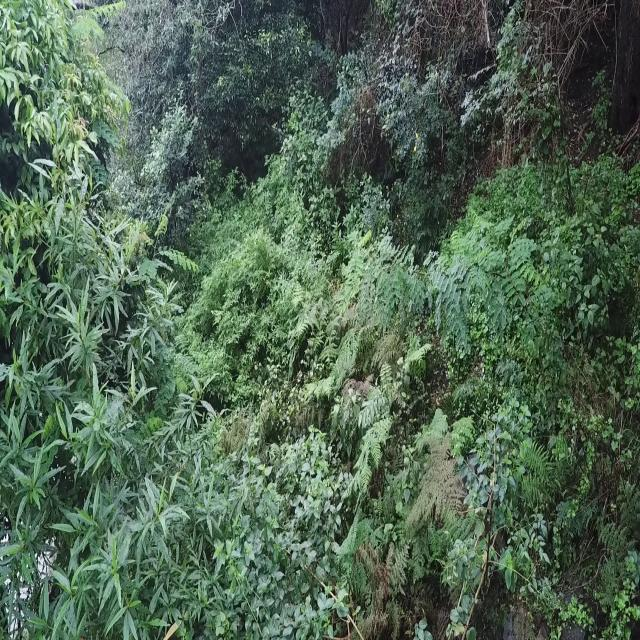Mysore-Thorn-Weed: (345, 220, 537, 329)
